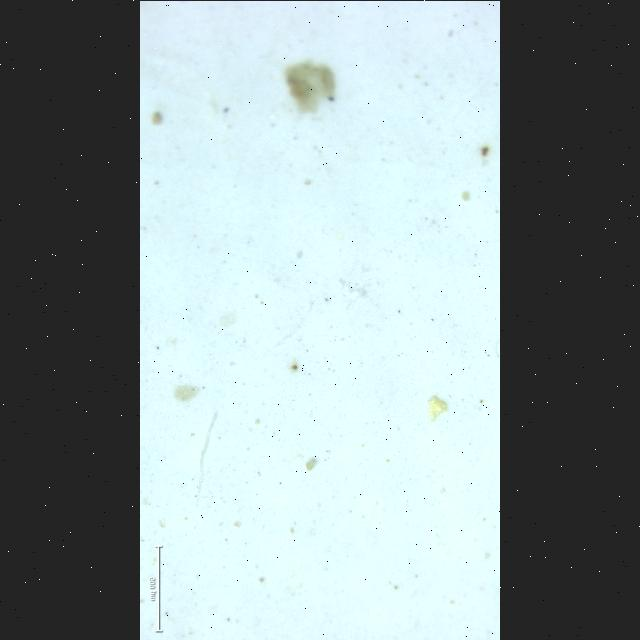Fibre: (199, 411, 217, 491)
Fragment: (428, 395, 447, 420), (306, 459, 315, 470)
